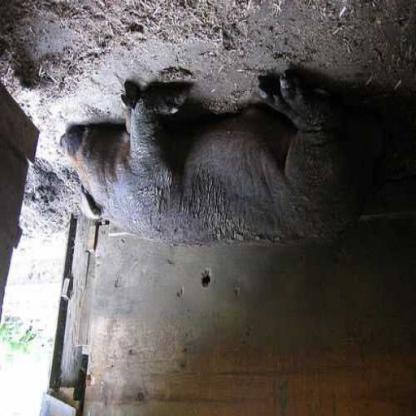boar: (56, 77, 376, 252)
